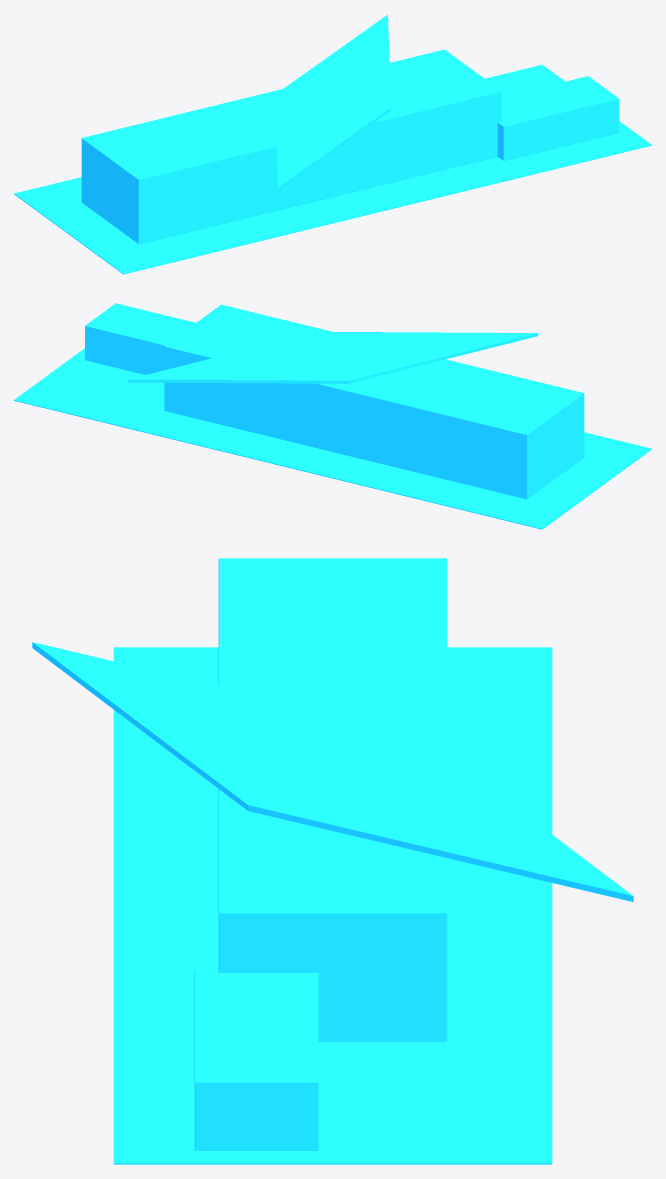
Rendered from planned-transfer-high.glb.
The picture shows the model from 3 angles, top to bottom: view 1: azimuth 30°, elevation 25°; view 2: azimuth 150°, elevation 25°; view 3: azimuth 270°, elevation 25°; orthographic projection. The views are drawn at different scales.
Visible parts, largest first — view 1: planned_transfer_main_mass, planned_transfer_footprint, planned_transfer_roof, planned_loading_shed; view 2: planned_transfer_main_mass, planned_transfer_footprint, planned_transfer_roof, planned_loading_shed; view 3: planned_transfer_footprint, planned_transfer_main_mass, planned_transfer_roof, planned_loading_shed.
Boxes of the visible parts, box(x1,y1,x2,y2) form: planned_transfer_main_mass: box(81, 49, 501, 243); planned_transfer_footprint: box(14, 64, 651, 274); planned_transfer_roof: box(275, 14, 390, 190); planned_loading_shed: box(497, 76, 619, 160); planned_transfer_main_mass: box(164, 304, 584, 499); planned_transfer_footprint: box(14, 348, 651, 529); planned_transfer_roof: box(127, 331, 538, 383); planned_loading_shed: box(85, 303, 195, 374); planned_transfer_footprint: box(113, 647, 552, 1164); planned_transfer_main_mass: box(218, 558, 447, 1041); planned_transfer_roof: box(32, 642, 633, 901); planned_loading_shed: box(194, 969, 318, 1150).
Size of the model in its own units: 128 by 15.93 by 63.07.
